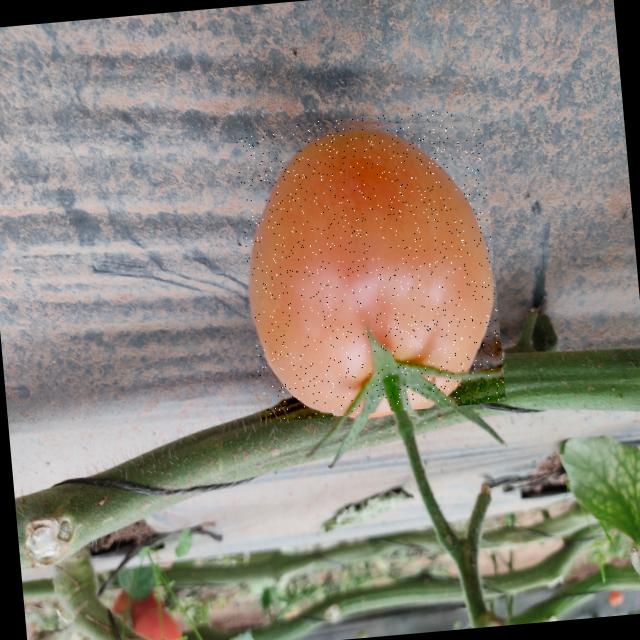Ripe Tomato: (235, 106, 506, 422)
